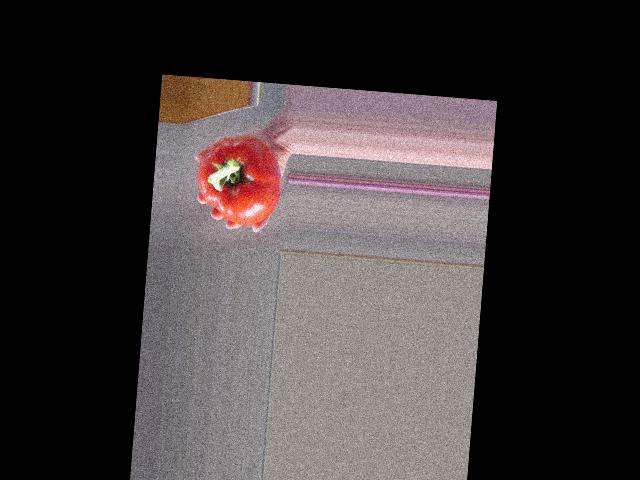tomato: (193, 134, 284, 227)
